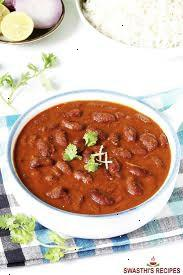rajma: (10, 96, 169, 222)
